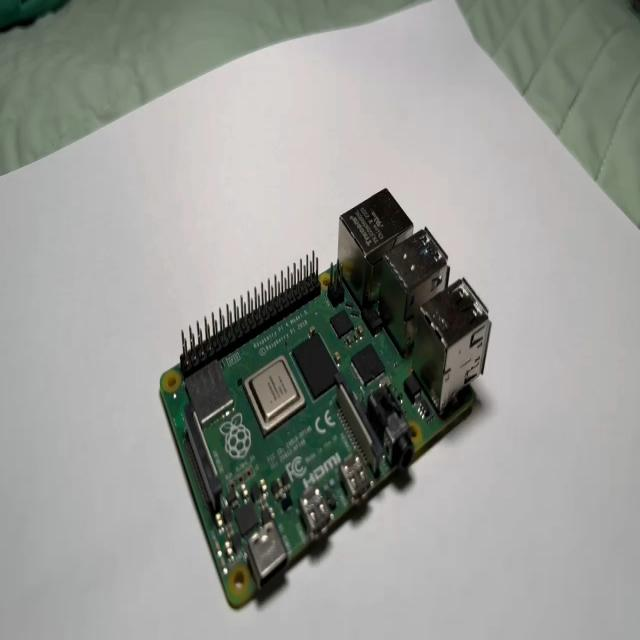CPU: (245, 356, 307, 437)
Ethernet: (337, 188, 414, 305)
GPIO: (180, 255, 322, 355)
RAM: (294, 331, 338, 401)
Raspberry: (158, 192, 491, 612)
micro-hdmi: (298, 490, 336, 545), (337, 452, 372, 510)
